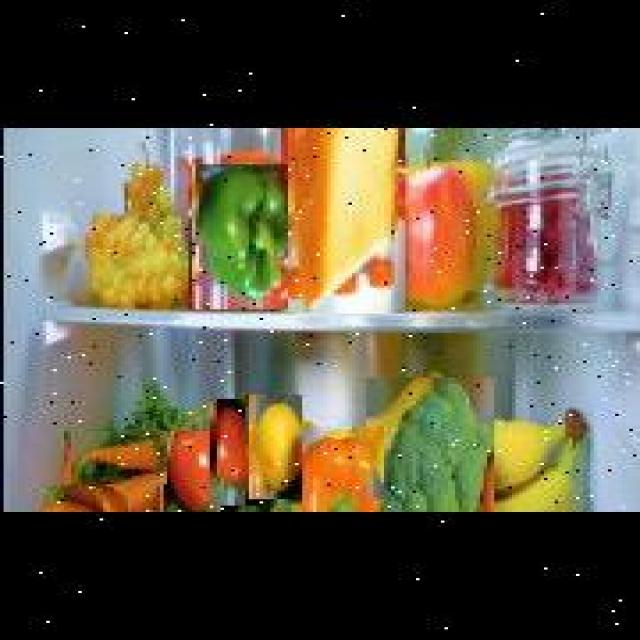apple: (393, 142, 485, 308)
bell_pepper: (188, 164, 284, 310), (281, 427, 380, 512)
broccoli: (366, 378, 494, 512)
carrot: (64, 431, 164, 484), (36, 486, 128, 512)
cheese: (281, 128, 405, 314)
lemon: (245, 395, 299, 499)
tomato: (204, 400, 254, 507), (156, 431, 217, 512)
